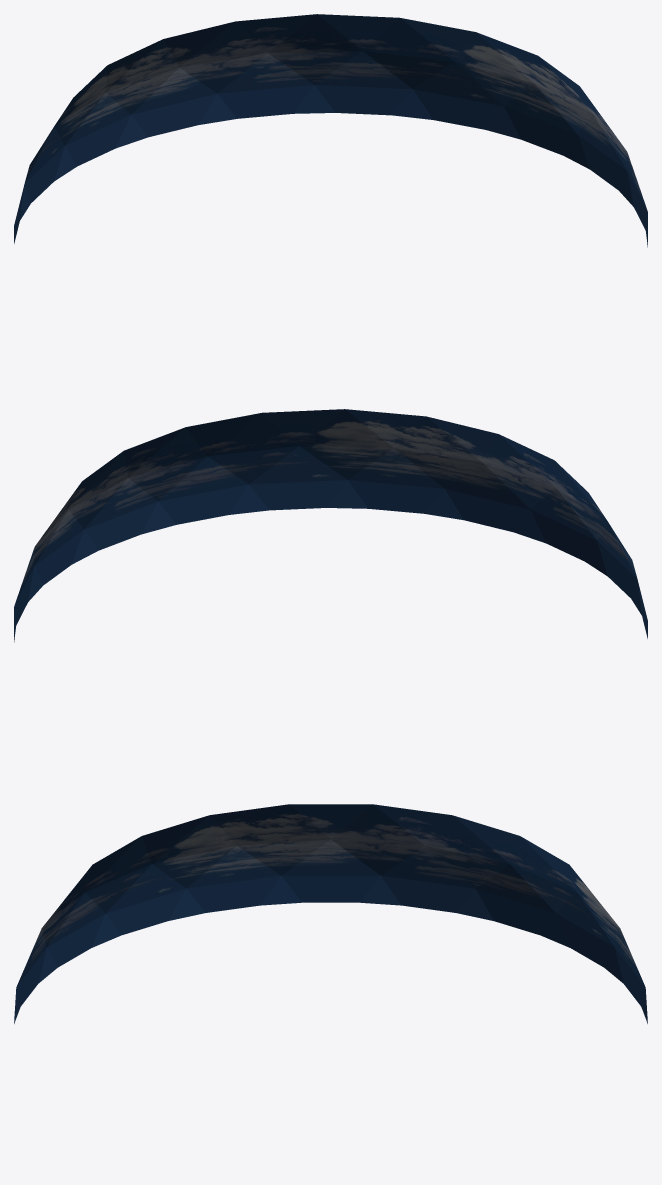
The model's file is vrcorn.glb.
3 renders of one model, top to bottom at view 1: azimuth 30°, elevation 25°; view 2: azimuth 150°, elevation 25°; view 3: azimuth 270°, elevation 25°, orthographic.
Parts seen in each view (by area): view 1: polygon0; view 2: polygon0; view 3: polygon0.
Boxes of the visible parts, bbox=[...] form: polygon0: bbox=[14, 14, 647, 247]; polygon0: bbox=[14, 409, 647, 642]; polygon0: bbox=[14, 804, 647, 1023].
Bounding box in the file's own units: 3177 × 1277 × 3177.
Materials: 1 (1 with a texture image).
